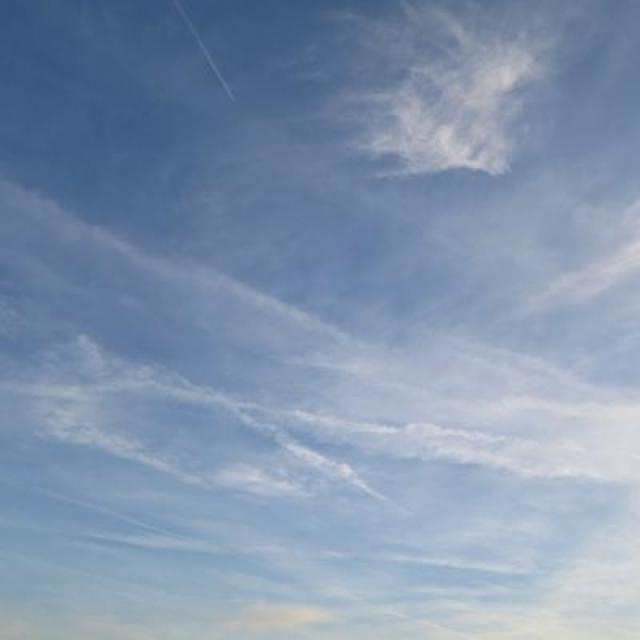Ct: (1, 19, 640, 540)
